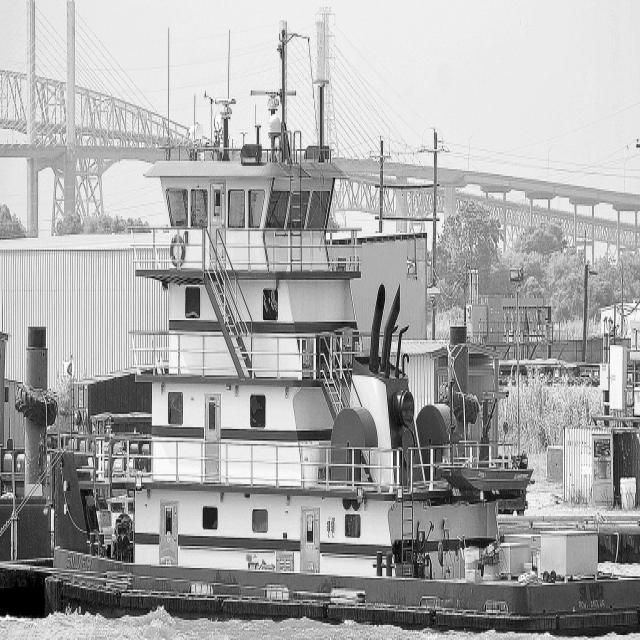tugboat: (33, 120, 640, 640)
